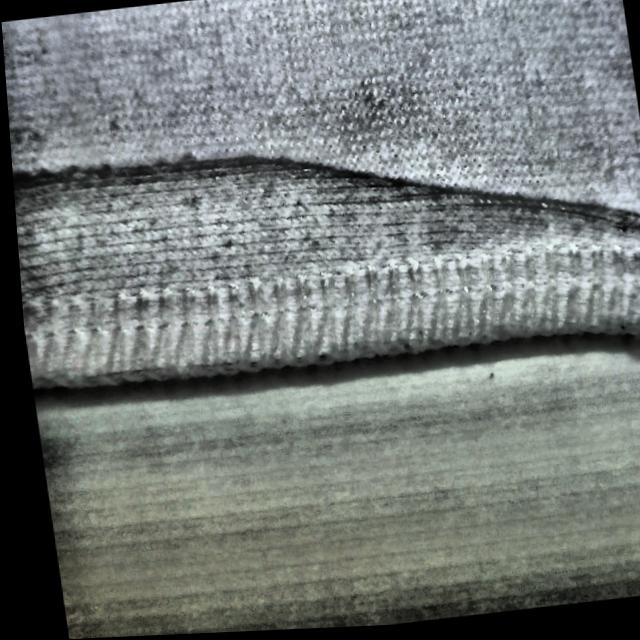seam: (5, 66, 640, 412)
